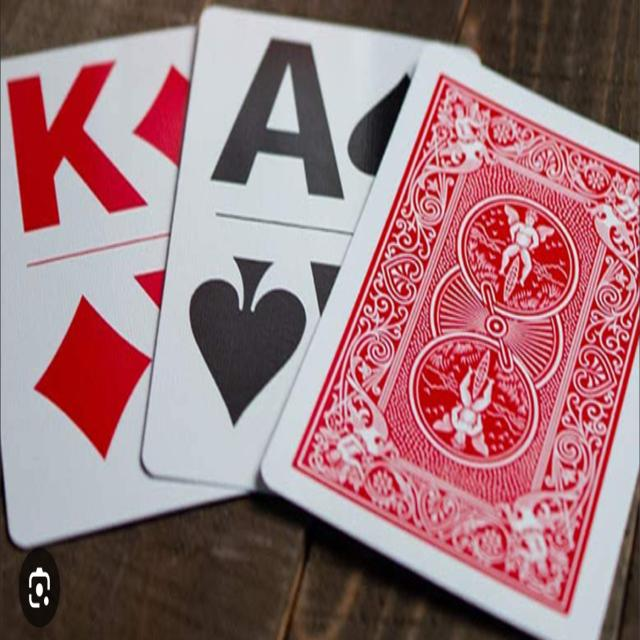Card-A: (142, 7, 478, 486)
Card-K: (0, 23, 247, 540)
